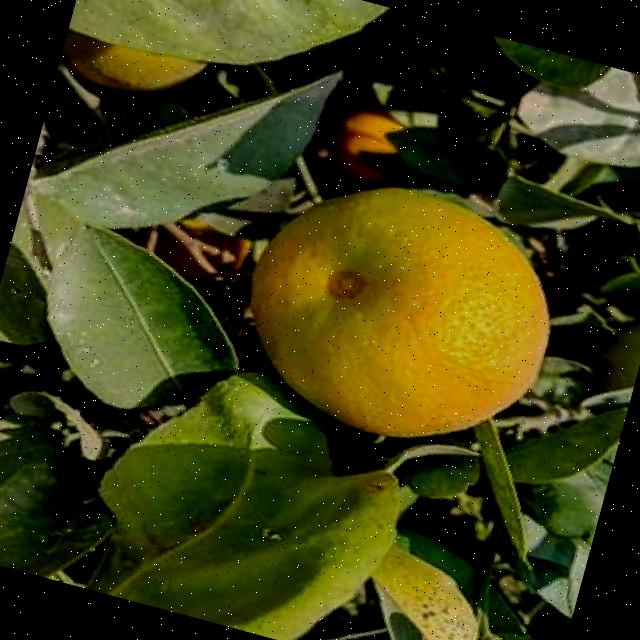orange: (218, 152, 576, 470)
